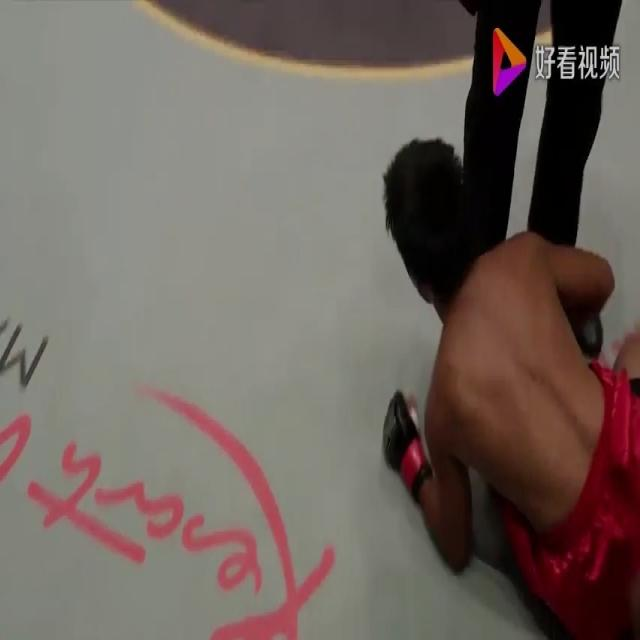non-fight: (353, 123, 639, 638)
